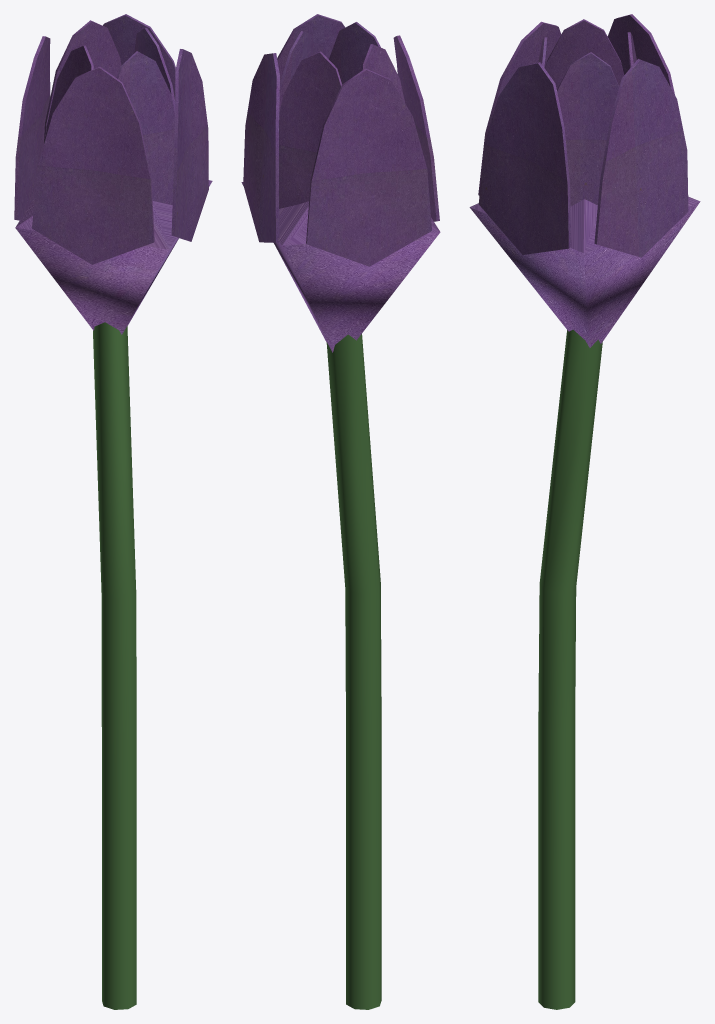
File: tulip_purple.fbx
3 views of the same model, side by side, from view 1: azimuth 30°, elevation 25°; view 2: azimuth 150°, elevation 25°; view 3: azimuth 270°, elevation 25° (orthographic). The views are drawn at different scales.
Visible parts, largest first — view 1: Petals, Stem, Ovale; view 2: Petals, Stem, Ovale; view 3: Petals, Stem, Ovale.
Part boxes in pixels (x1=…): Petals: x1=14, y1=14, x2=208, y2=264; Stem: x1=93, y1=322, x2=136, y2=1009; Ovale: x1=15, y1=180, x2=212, y2=334; Petals: x1=243, y1=14, x2=439, y2=266; Stem: x1=326, y1=334, x2=381, y2=1009; Ovale: x1=241, y1=182, x2=440, y2=352; Petals: x1=478, y1=14, x2=688, y2=257; Stem: x1=538, y1=330, x2=602, y2=1009; Ovale: x1=469, y1=196, x2=700, y2=347.
Bounding box in the file's own units: 10.78 × 50.1 × 10.78.
3 materials, 3 textured.
